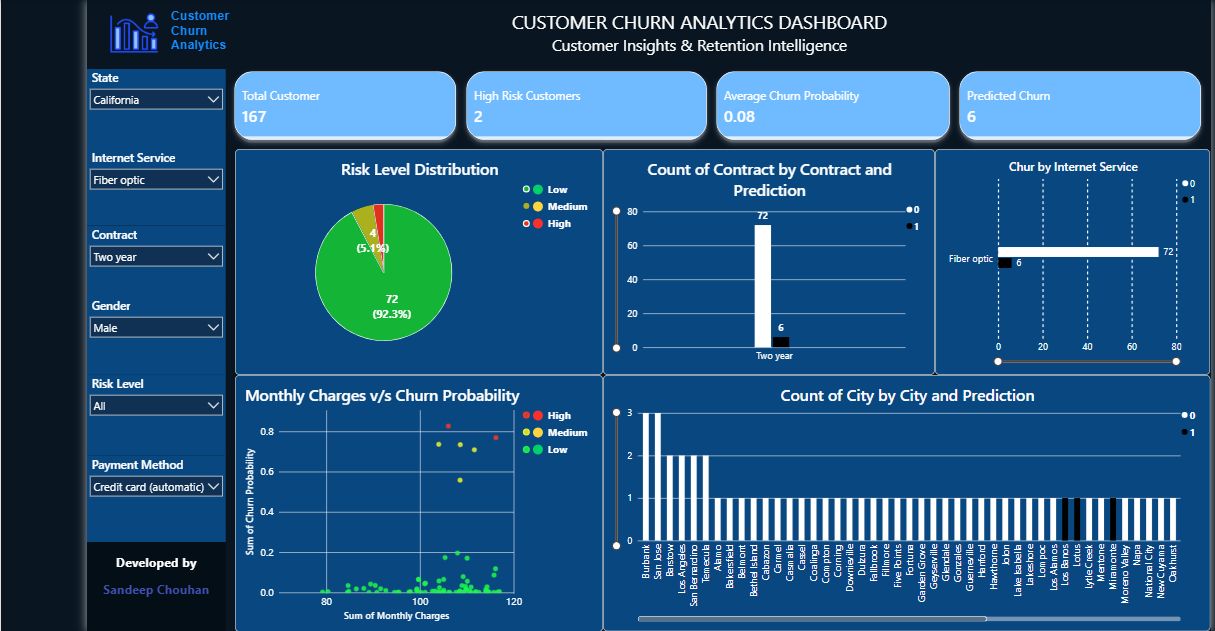

The dashboard page shown, as its layout file describes it:
{"tool":"powerbi","page":{"name":"Page 1","canvas":[1920,1080],"ordinal":0},"visuals":[{"type":"slicer","fields":{"Values":["churn_predictions.State"]},"box":[0,117.1,236.6,137.8],"z":0},{"type":"slicer","fields":{"Values":["churn_predictions.Contract"]},"box":[0,385.8,236.6,121.7],"z":1000},{"type":"slicer","fields":{"Values":["churn_predictions.Gender"]},"box":[0,507.6,236.6,133.2],"z":2000},{"type":"slicer","fields":{"Values":["churn_predictions.Internet Service"]},"box":[0,254.9,236.6,130.9],"z":3000},{"type":"slicer","fields":{"Values":["churn_predictions.Payment Method"]},"box":[0,778.6,236.6,147],"z":4000},{"type":"slicer","fields":{"Values":["churn_predictions.Risk Level"]},"box":[0,640.8,236.6,137.8],"z":5000},{"type":"cardVisual","fields":{"Data":["churn_predictions.Total Customer"]},"box":[236.6,105.6,411.1,149.3],"z":6000},{"type":"cardVisual","fields":{"Data":["churn_predictions.High Risk Customers"]},"box":[631.6,105.6,443.3,149.3],"z":7000},{"type":"cardVisual","fields":{"Data":["churn_predictions.Average Churn Probability"]},"box":[1058.8,105.6,431.8,149.3],"z":8000},{"type":"cardVisual","fields":{"Data":["churn_predictions.Predicted Churn"]},"box":[1474.4,105.6,445.6,149.3],"z":9000},{"type":"pieChart","title":"Risk Level Distribution","fields":{"Category":["churn_predictions.Risk Level"],"Y":["CountNonNull(churn_predictions.Risk Level)"]},"box":[252.6,254.9,629.3,385.8],"z":10000},{"type":"lineClusteredColumnComboChart","fields":{"Category":["churn_predictions.Contract"],"Series":["churn_predictions.Prediction"],"Y":["CountNonNull(churn_predictions.Contract)"]},"box":[881.9,254.9,567.3,385.8],"z":10001},{"type":"clusteredBarChart","title":"Chur by Internet Service","fields":{"Category":["churn_predictions.Internet Service"],"Series":["churn_predictions.Prediction"],"Y":["CountNonNull(churn_predictions.Internet Service)"]},"box":[1449.6,254.3,470.4,386.3],"z":10002},{"type":"scatterChart","title":"Monthly Charges v/s Churn Probability","fields":{"Category":["churn_predictions.Customer Index"],"Series":["churn_predictions.Risk Level"],"X":["Sum(churn_predictions.Monthly Charges)"],"Y":["Sum(churn_predictions.Churn Probability)"]},"box":[252.6,640.8,629.3,438.7],"z":10003},{"type":"columnChart","fields":{"Category":["churn_predictions.City"],"Series":["churn_predictions.Prediction"],"Y":["CountNonNull(churn_predictions.City)"]},"box":[881.6,640.6,1038.4,437.9],"z":10004},{"type":"textbox","box":[273.4,15.4,1546.5,90.6],"z":10005},{"type":"textbox","box":[0,926,237,154],"z":10006},{"type":"image","box":[19.1,15.3,124.3,82.2],"z":10007},{"type":"textbox","box":[143.4,15.3,153,89.9],"z":10008}]}

Visuals, with their boxes on the page's 1920x1080 design canvas (x1, y1, x2, y2). These are canvas units, not pixel positions in the 1215x631 screenshot, which may show the page scaled, cropped or inside an application window:
slicer - churn_predictions.State: x1=0, y1=117, x2=237, y2=255
slicer - churn_predictions.Contract: x1=0, y1=386, x2=237, y2=508
slicer - churn_predictions.Gender: x1=0, y1=508, x2=237, y2=641
slicer - churn_predictions.Internet Service: x1=0, y1=255, x2=237, y2=386
slicer - churn_predictions.Payment Method: x1=0, y1=779, x2=237, y2=926
slicer - churn_predictions.Risk Level: x1=0, y1=641, x2=237, y2=779
cardVisual - churn_predictions.Total Customer: x1=237, y1=106, x2=648, y2=255
cardVisual - churn_predictions.High Risk Customers: x1=632, y1=106, x2=1075, y2=255
cardVisual - churn_predictions.Average Churn Probability: x1=1059, y1=106, x2=1491, y2=255
cardVisual - churn_predictions.Predicted Churn: x1=1474, y1=106, x2=1920, y2=255
"Risk Level Distribution" pieChart: x1=253, y1=255, x2=882, y2=641
lineClusteredColumnComboChart - churn_predictions.Contract x churn_predictions.Prediction: x1=882, y1=255, x2=1449, y2=641
"Chur by Internet Service" clusteredBarChart: x1=1450, y1=254, x2=1920, y2=641
"Monthly Charges v/s Churn Probability" scatterChart: x1=253, y1=641, x2=882, y2=1080
columnChart - churn_predictions.City x churn_predictions.Prediction: x1=882, y1=641, x2=1920, y2=1078
textbox: x1=273, y1=15, x2=1820, y2=106
textbox: x1=0, y1=926, x2=237, y2=1080
image: x1=19, y1=15, x2=143, y2=98
textbox: x1=143, y1=15, x2=296, y2=105
